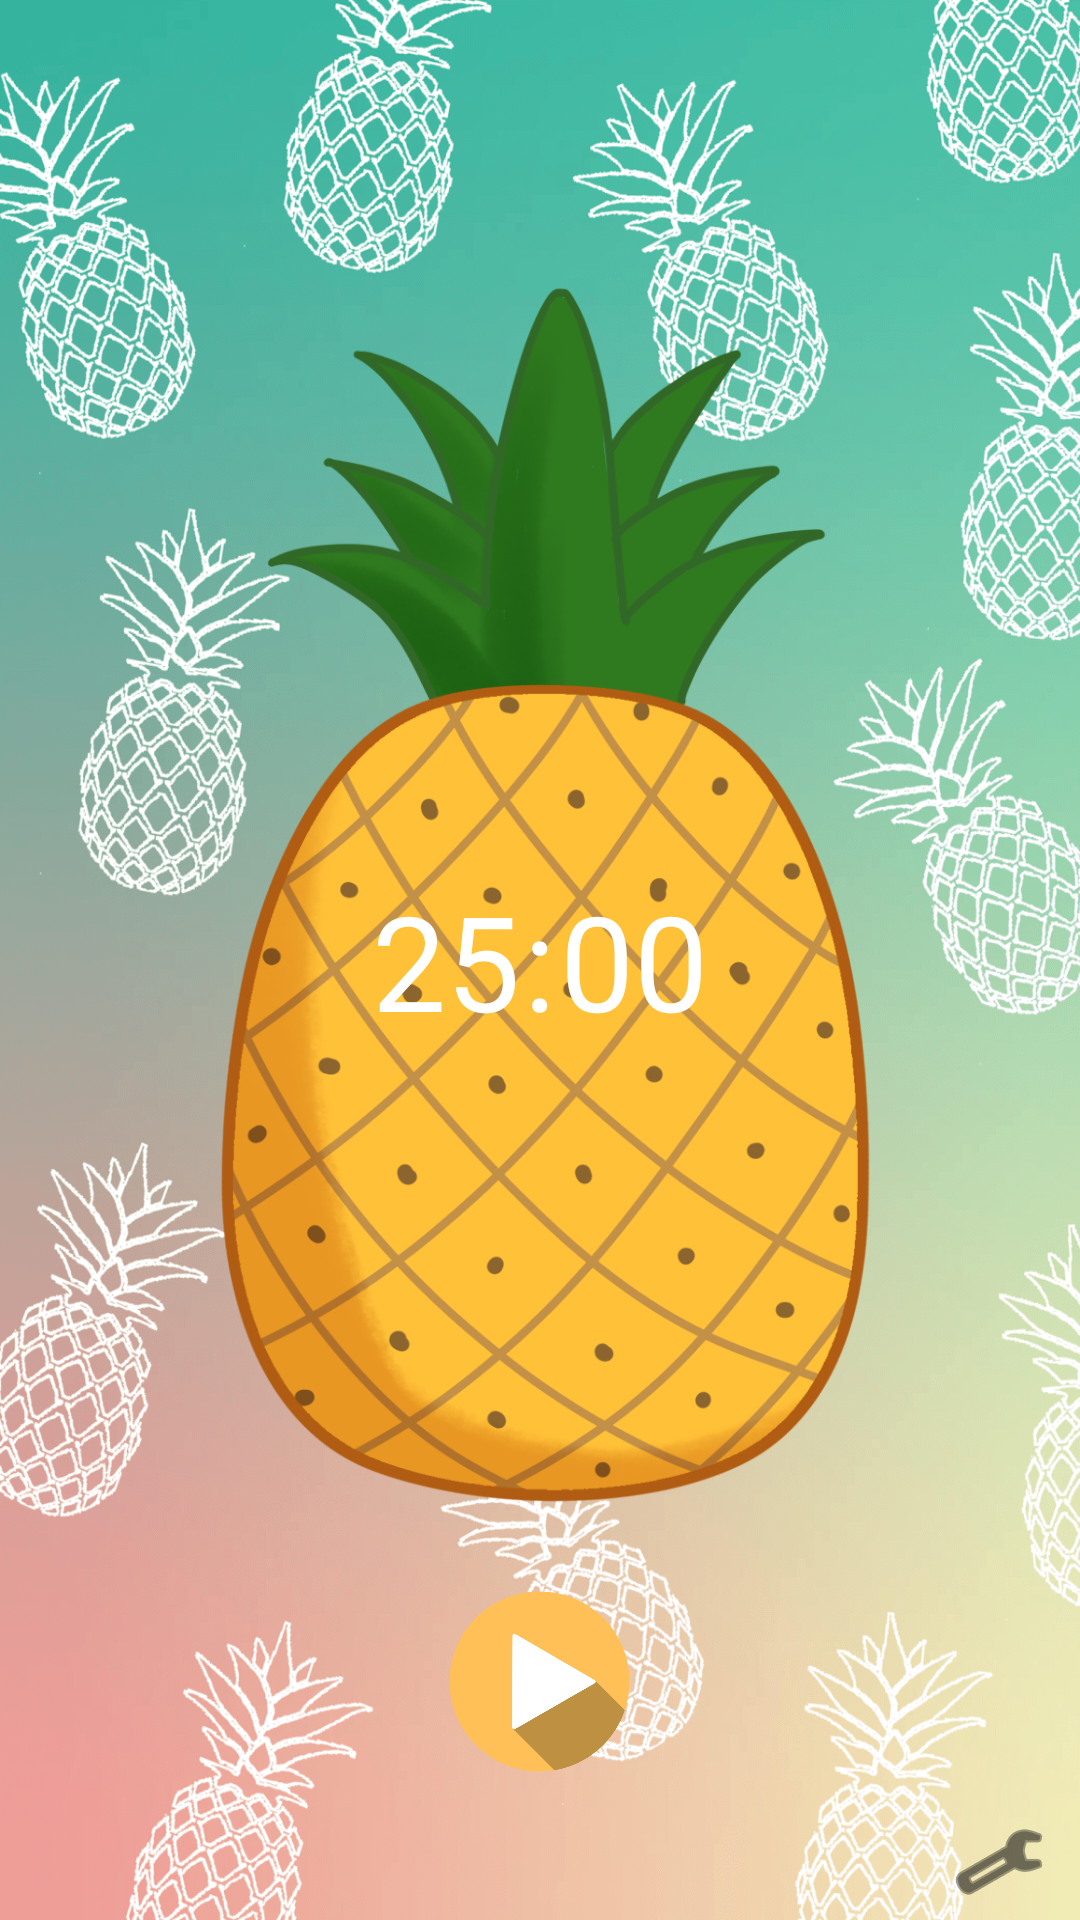

Point at icon controls on the screen. Image size 1080*1920, points as [x,y].
preferences: [992,1864]
